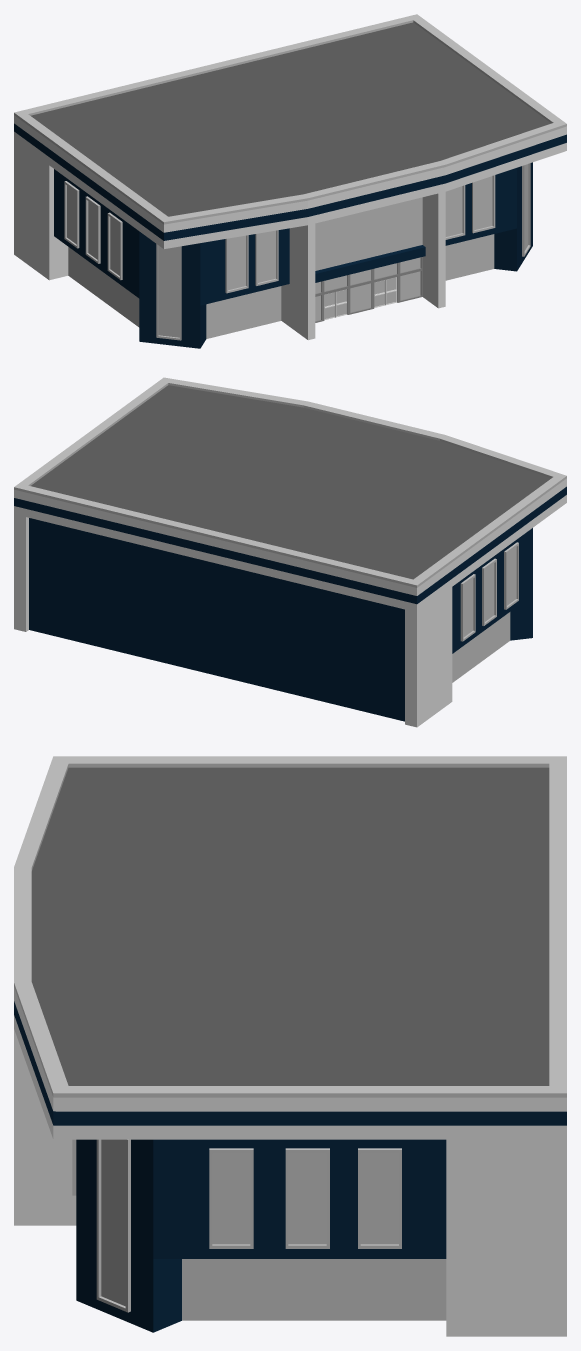
3 views of the same model, one above another, from view 1: azimuth 30°, elevation 25°; view 2: azimuth 150°, elevation 25°; view 3: azimuth 270°, elevation 25° (orthographic). The views are drawn at different scales.
Visible parts, largest first — view 1: DC-05; view 2: DC-05; view 3: DC-05.
Part boxes in pixels (x1=…): DC-05: x1=14, y1=14, x2=566, y2=348; DC-05: x1=14, y1=377, x2=566, y2=727; DC-05: x1=14, y1=756, x2=566, y2=1336.
Size of what is drawn, in the model's own units: 39.97 by 13.46 by 27.71.
